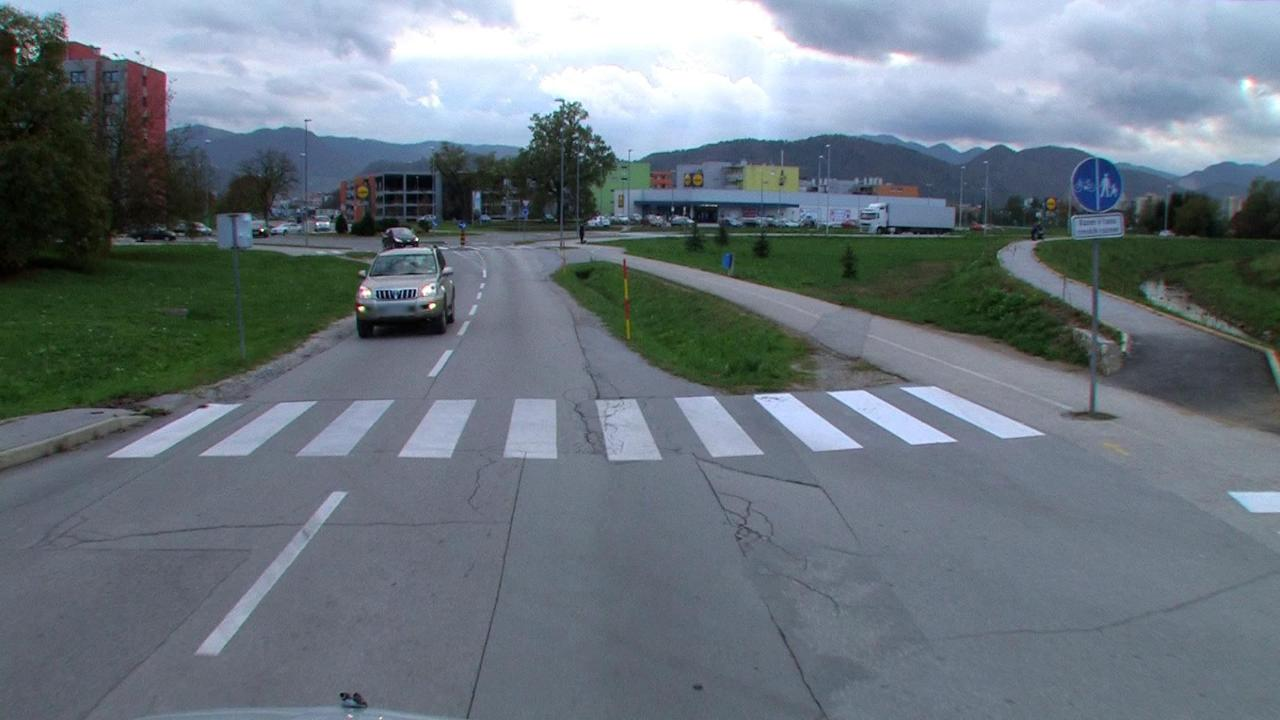Rectangle: (1068, 212, 1128, 240)
Round: (1072, 156, 1124, 212)
